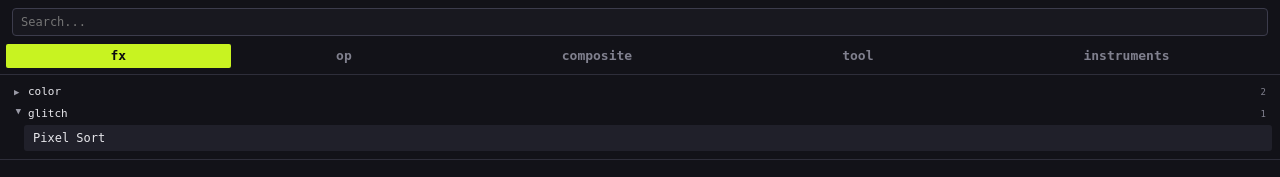
Test: P3.2 — [composite] tab › tab switch to composite shows composite effects
Click the tab with test id "browser-tab-composite" at [597, 56], box [457,44,737,68]
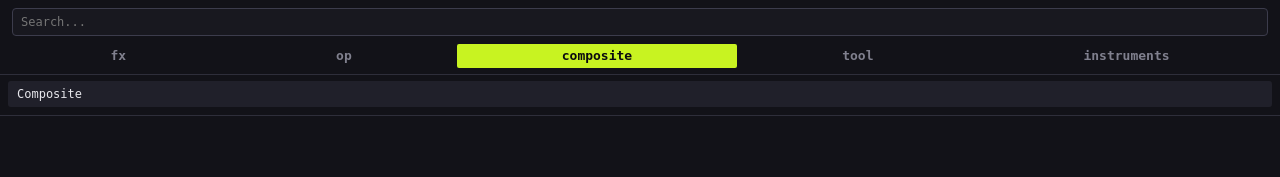
Now the button with test id "composite-item-composite" is shown, box [8,81,1272,107]
